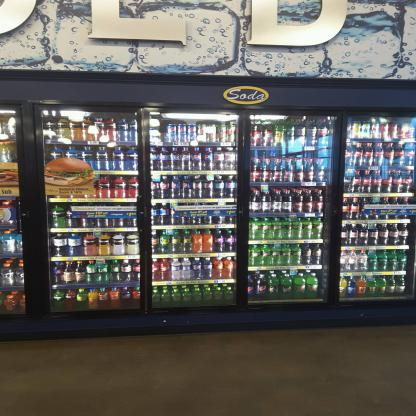Void: (160, 123, 167, 144)
